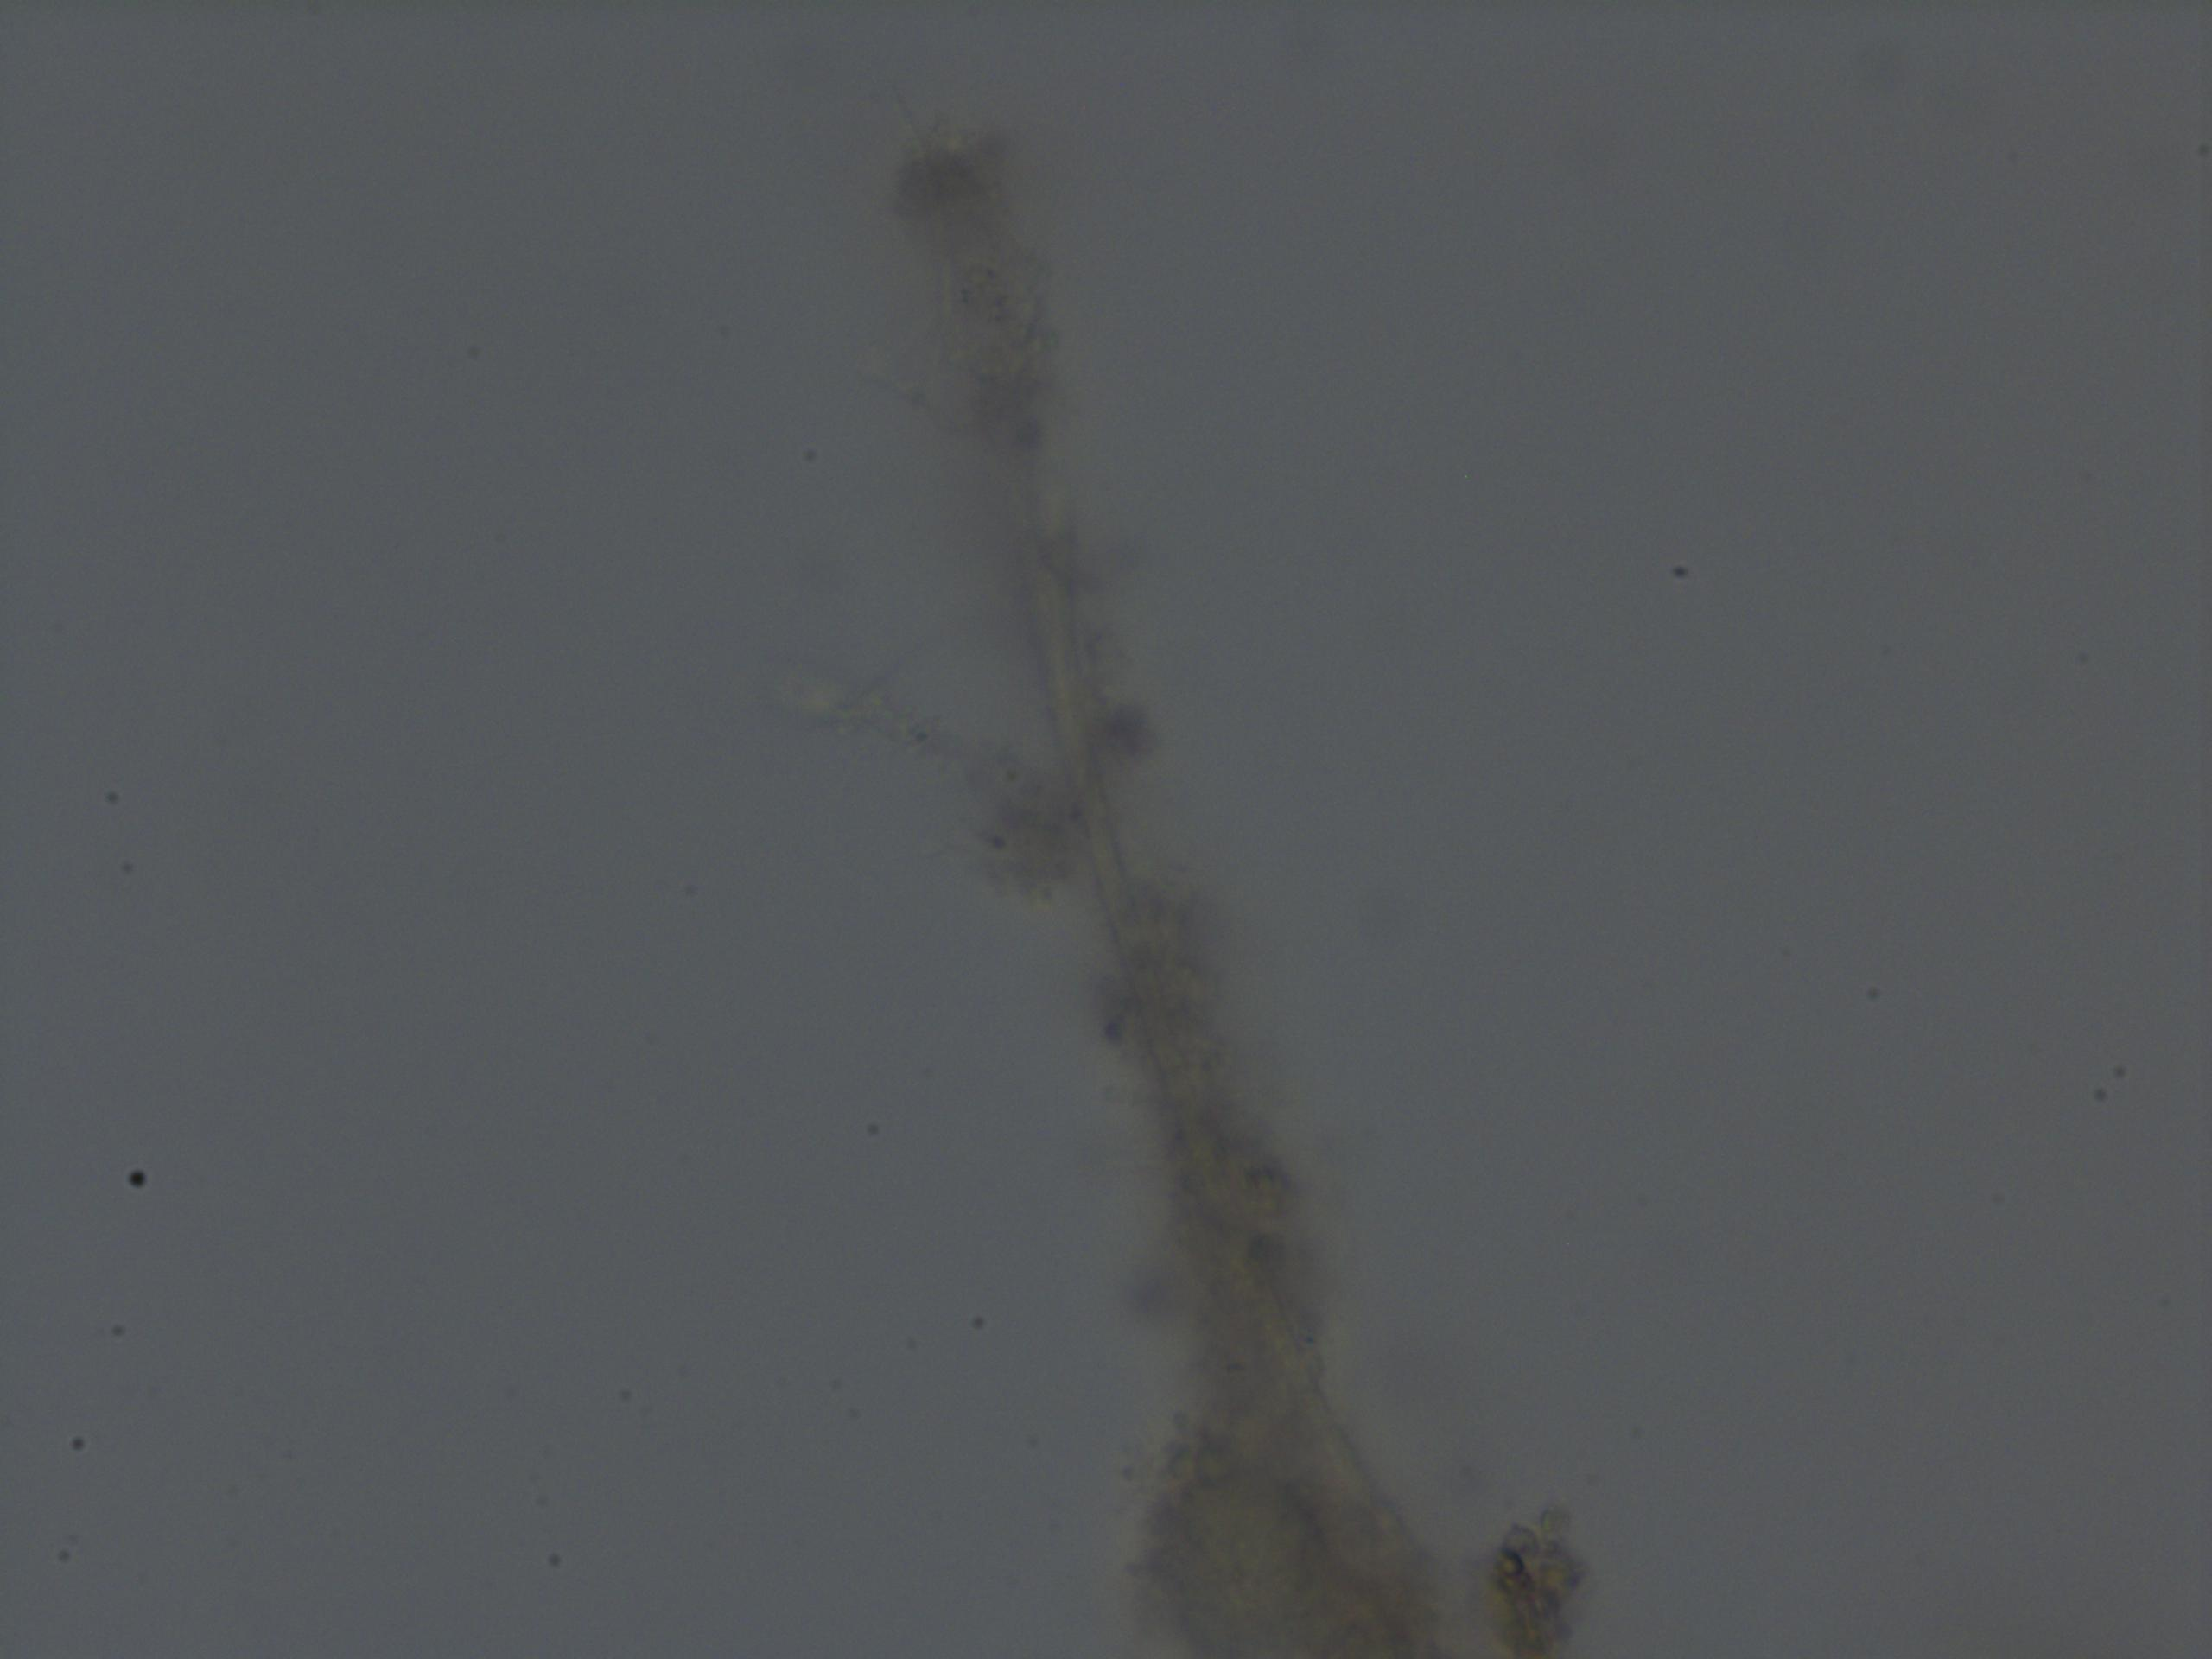filament: (892, 87, 1601, 1649)
